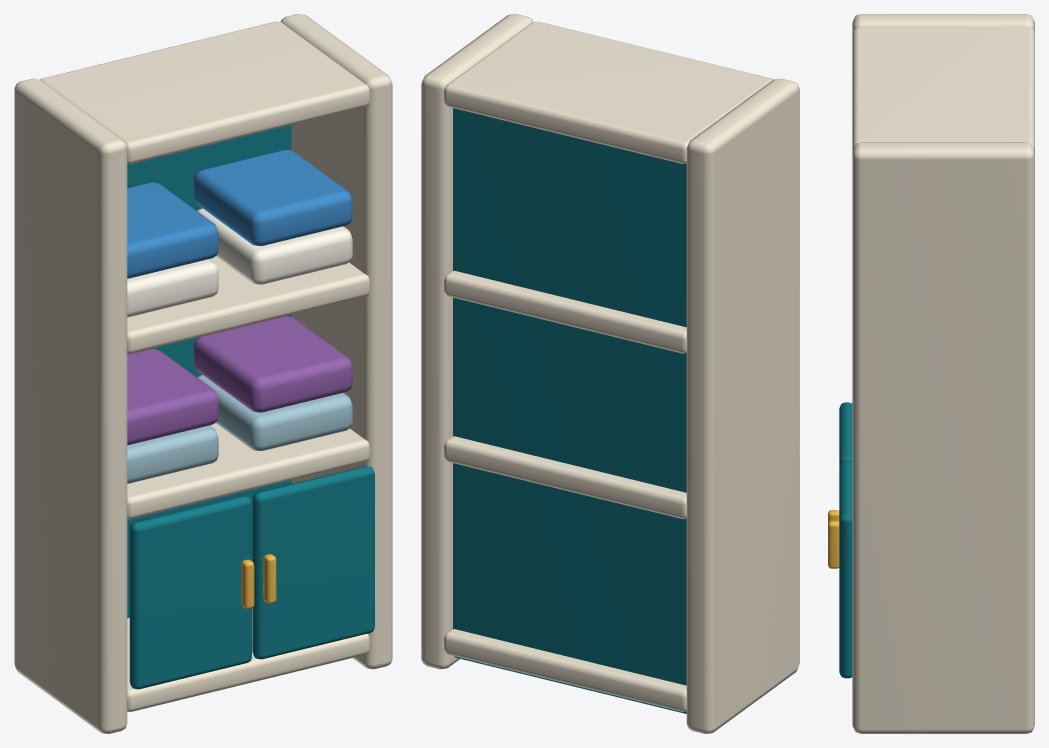
File: Recovery_Linen_Cabinet.glb
3 renders of one model, left to right at view 1: azimuth 30°, elevation 25°; view 2: azimuth 150°, elevation 25°; view 3: azimuth 270°, elevation 25°, orthographic.
Parts seen in each view (by area): view 1: Recovery_Linen_Cabinet__Visual; view 2: Recovery_Linen_Cabinet__Visual; view 3: Recovery_Linen_Cabinet__Visual.
Part boxes in pixels (x1,y1,x2,y2): Recovery_Linen_Cabinet__Visual: (14,14,392,733); Recovery_Linen_Cabinet__Visual: (421,14,799,733); Recovery_Linen_Cabinet__Visual: (828,14,1034,733).
Size of the model in its own units: 0.954 by 1.84 by 0.5895.
Materials: 1 (1 with a texture image).
